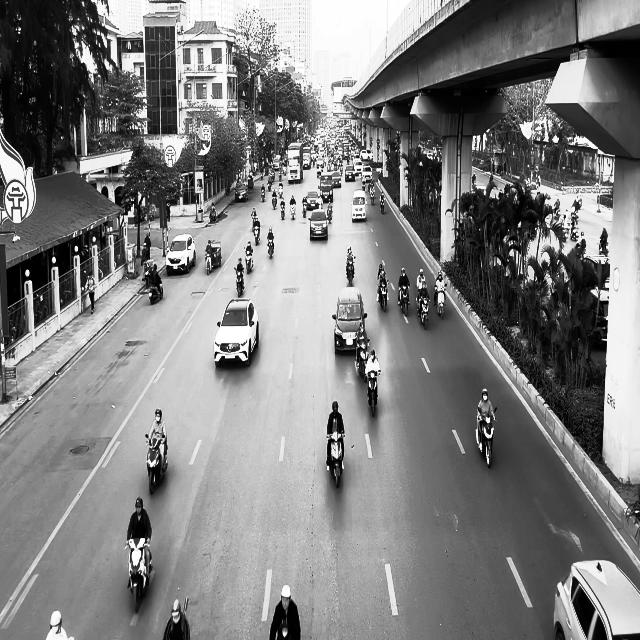bus: (287, 142, 303, 183)
car: (552, 559, 640, 639), (214, 298, 259, 367), (332, 287, 368, 354), (165, 233, 196, 275), (308, 209, 328, 240), (352, 190, 366, 221), (305, 189, 320, 210), (234, 183, 248, 202)
motorbike: (124, 537, 154, 613), (145, 433, 168, 494), (475, 407, 497, 468), (326, 432, 344, 487), (365, 370, 381, 417), (354, 337, 370, 379), (416, 292, 430, 330), (434, 284, 446, 318), (398, 282, 410, 315), (377, 279, 388, 312), (235, 266, 244, 297), (346, 256, 355, 286), (252, 220, 260, 246), (205, 250, 212, 276), (599, 236, 608, 255), (267, 236, 274, 258), (379, 194, 385, 213), (290, 203, 296, 220), (280, 200, 285, 220), (210, 209, 217, 223), (369, 188, 375, 204), (302, 200, 307, 218), (272, 193, 277, 209), (261, 186, 265, 202)
